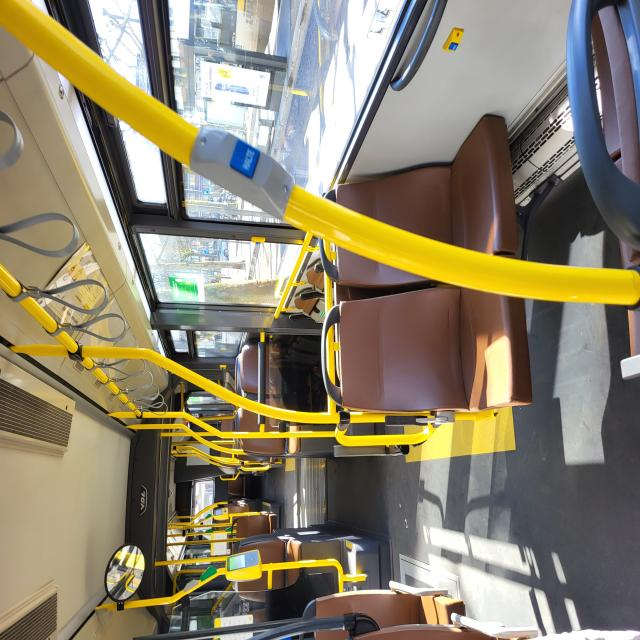asiento-libre: (257, 414, 397, 640), (161, 425, 286, 640), (1, 399, 45, 605), (31, 312, 84, 452), (141, 316, 168, 398), (182, 319, 225, 359), (72, 310, 97, 368), (85, 286, 101, 326), (152, 290, 171, 313), (132, 287, 150, 311), (107, 300, 122, 328)
